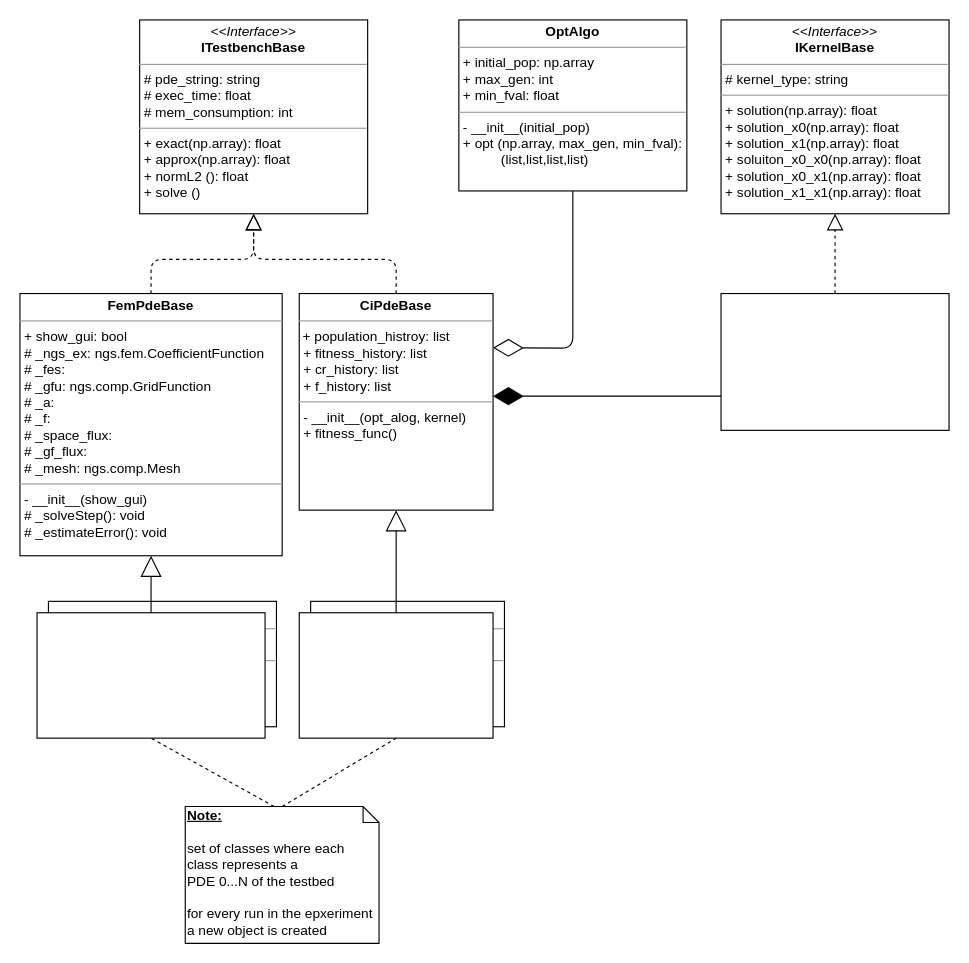
The diagram is 969 pixels wide and 963 high, and some of its shapes have lost their labels. The centre of each missing label's shape, as x and y in pixels:
"CiPde0 + max_gen: int - __init__(show_gui) ^+ solve()" goes at (x=395, y=675).
"FemPde0 + max_ndof: int - __init__(show_gui, max_ndof) ^+ solve()" goes at (x=150, y=675).
"KernelGauss - __init__()" goes at (x=834, y=361).
